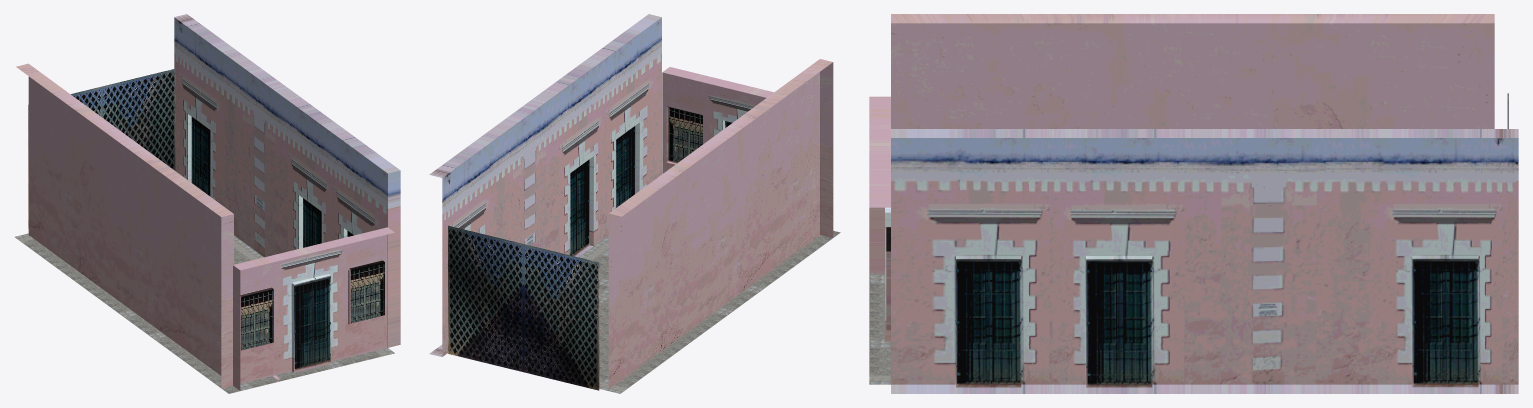
Rendered from Baños_Patios.fbx.
3 views of the same model, side by side, from view 1: azimuth 30°, elevation 25°; view 2: azimuth 150°, elevation 25°; view 3: azimuth 270°, elevation 25° (orthographic). The views are drawn at different scales.
Visible parts, largest first — view 1: Wall_02, Wall_01, Wall_03, Rejas_Bathroom, ground_Bathroom, door_Bathroom, door_01, door_02; view 2: Wall_02, Wall_01, Rejas_Bathroom, Wall_03, ground_Bathroom, door_02, door_03; view 3: Wall_01, Wall_02, door_01, door_02, door_03, Wall_03, ground_Bathroom.
Part boxes in pixels (x1,y1,x2,y2): Wall_02: [16, 63, 233, 388]; Wall_01: [174, 14, 400, 347]; Wall_03: [233, 227, 394, 390]; Rejas_Bathroom: [28, 68, 175, 228]; ground_Bathroom: [15, 233, 394, 393]; door_Bathroom: [294, 275, 330, 372]; door_01: [191, 117, 210, 196]; door_02: [303, 198, 321, 247]; Wall_02: [608, 59, 833, 389]; Wall_01: [429, 14, 661, 356]; Rejas_Bathroom: [448, 225, 599, 390]; Wall_03: [662, 67, 821, 234]; ground_Bathroom: [579, 231, 840, 393]; door_02: [570, 159, 589, 256]; door_03: [616, 126, 635, 207]; Wall_01: [891, 129, 1518, 393]; Wall_02: [891, 14, 1494, 128]; door_01: [1412, 258, 1478, 387]; door_02: [1086, 259, 1152, 387]; door_03: [956, 259, 1021, 387]; Wall_03: [869, 96, 890, 342]; ground_Bathroom: [869, 273, 890, 384].
Bounding box in the file's own units: 14 × 13 × 29.9.
